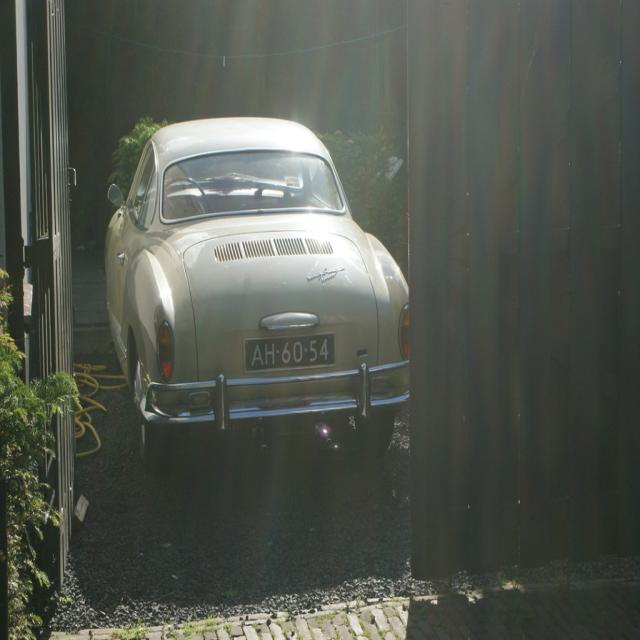car: (100, 108, 423, 493)
